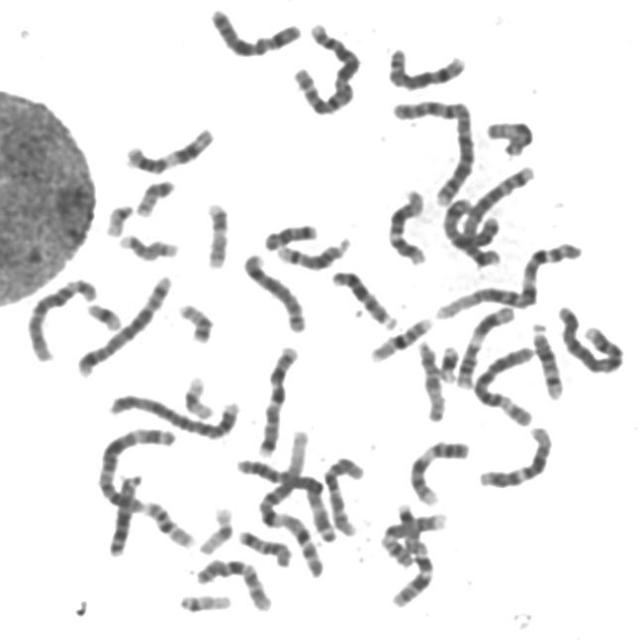A1: (430, 235, 585, 322), (238, 442, 330, 579)
A2: (385, 90, 478, 207), (287, 16, 363, 116)
A3: (232, 452, 341, 544), (91, 420, 180, 523)
B4: (103, 386, 244, 440), (551, 298, 626, 376)
B5: (70, 267, 174, 379), (454, 159, 537, 267)
C10: (190, 551, 275, 614), (317, 448, 368, 540)
C11: (451, 298, 517, 390), (118, 120, 216, 175)
C12: (472, 419, 555, 490), (381, 182, 430, 266)
C6: (21, 270, 99, 363), (467, 339, 537, 427)
C7: (383, 504, 441, 611), (251, 337, 302, 458)
C8: (236, 246, 308, 334), (381, 41, 469, 92)
C9: (402, 433, 472, 507), (375, 507, 450, 568)
D13: (326, 263, 400, 331), (102, 467, 147, 558)
D14: (525, 316, 567, 400), (270, 231, 353, 271)
D15: (412, 333, 447, 424), (480, 113, 536, 158)
E16: (364, 310, 435, 363), (138, 495, 195, 549)
E17: (113, 226, 181, 262), (199, 195, 231, 270)
E18: (232, 523, 294, 568), (258, 216, 320, 252)
F19: (193, 499, 236, 556), (176, 368, 217, 420)
F20: (171, 295, 216, 345), (130, 172, 177, 218)
G21: (80, 295, 125, 332), (432, 339, 462, 383)
G22: (172, 587, 234, 614), (98, 196, 135, 238)
X: (202, 1, 306, 59), (438, 191, 504, 259)
